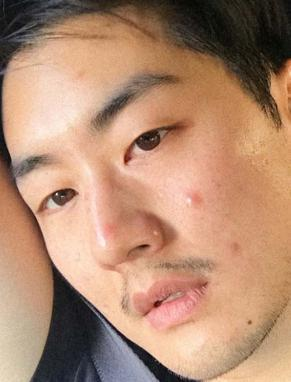Acne: (184, 191, 198, 207), (229, 238, 242, 251), (245, 316, 254, 326)
